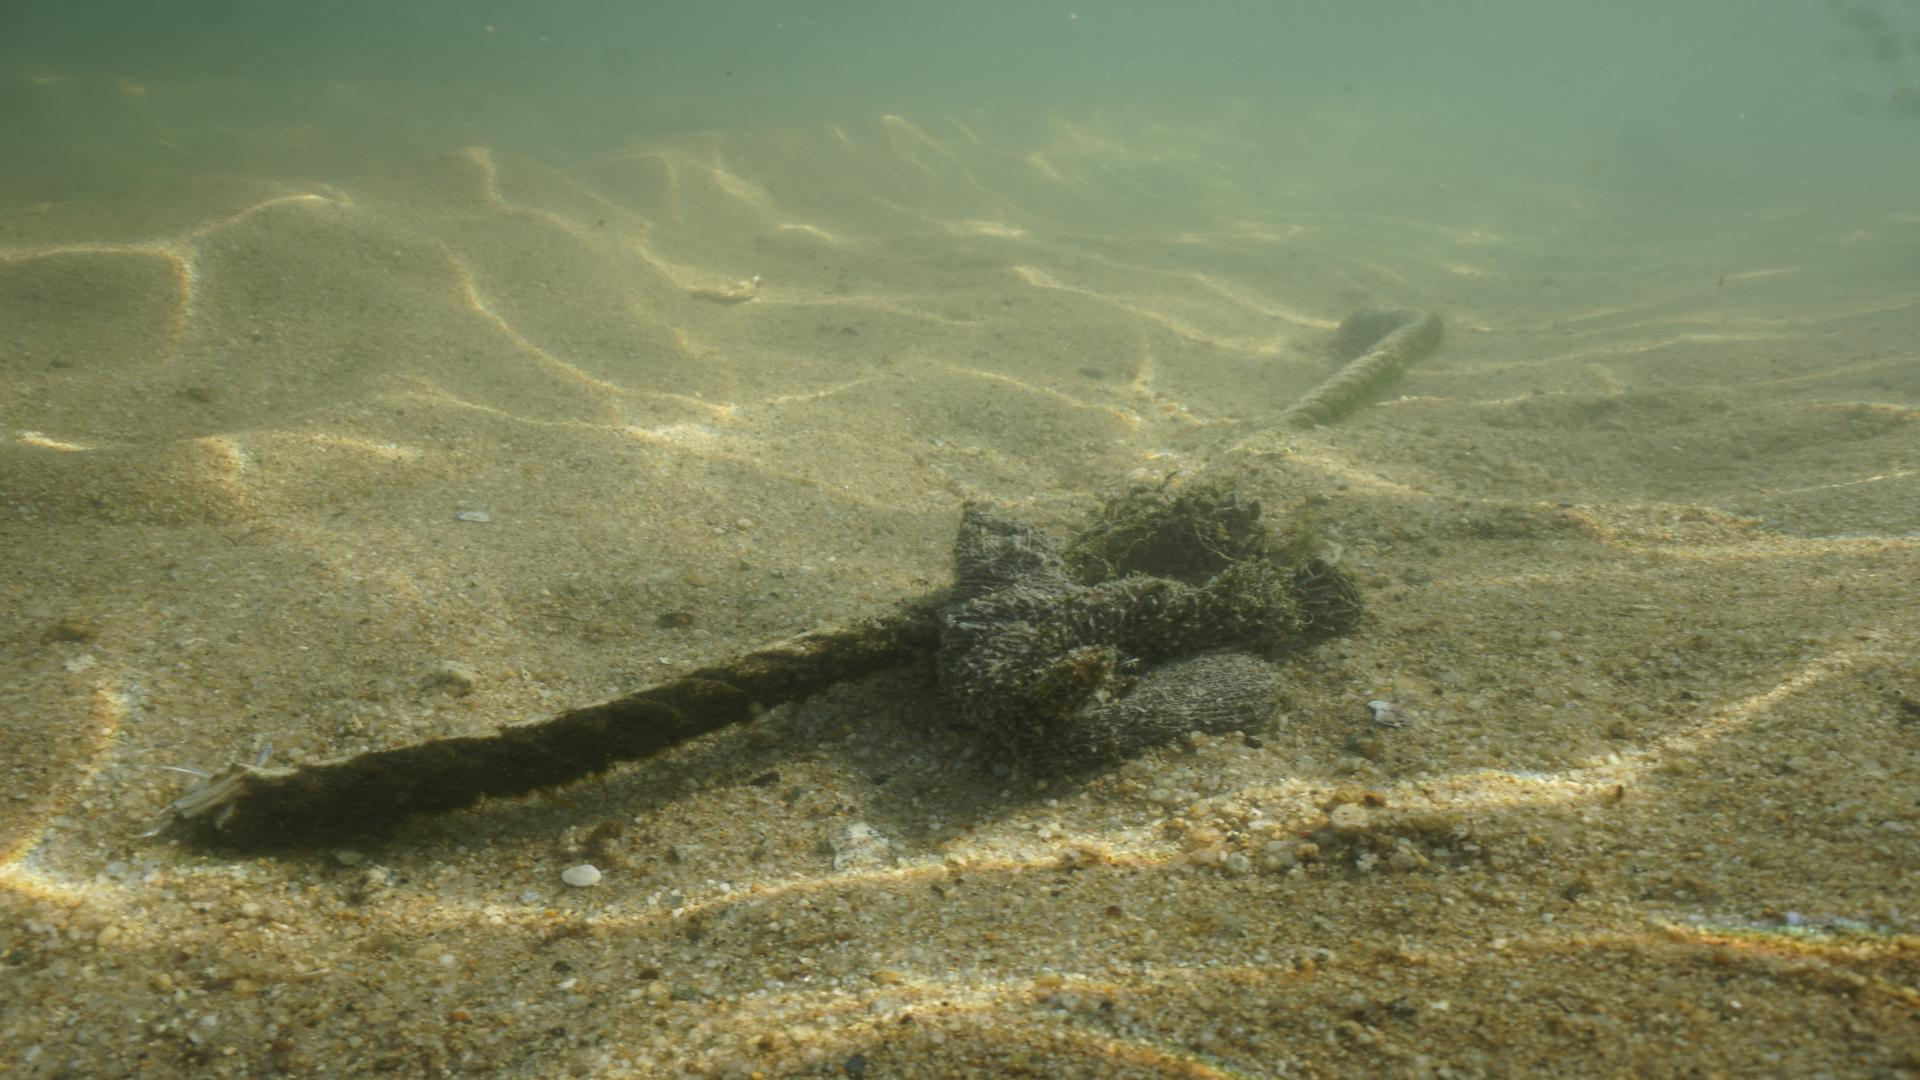rope: (266, 295, 1451, 823)
